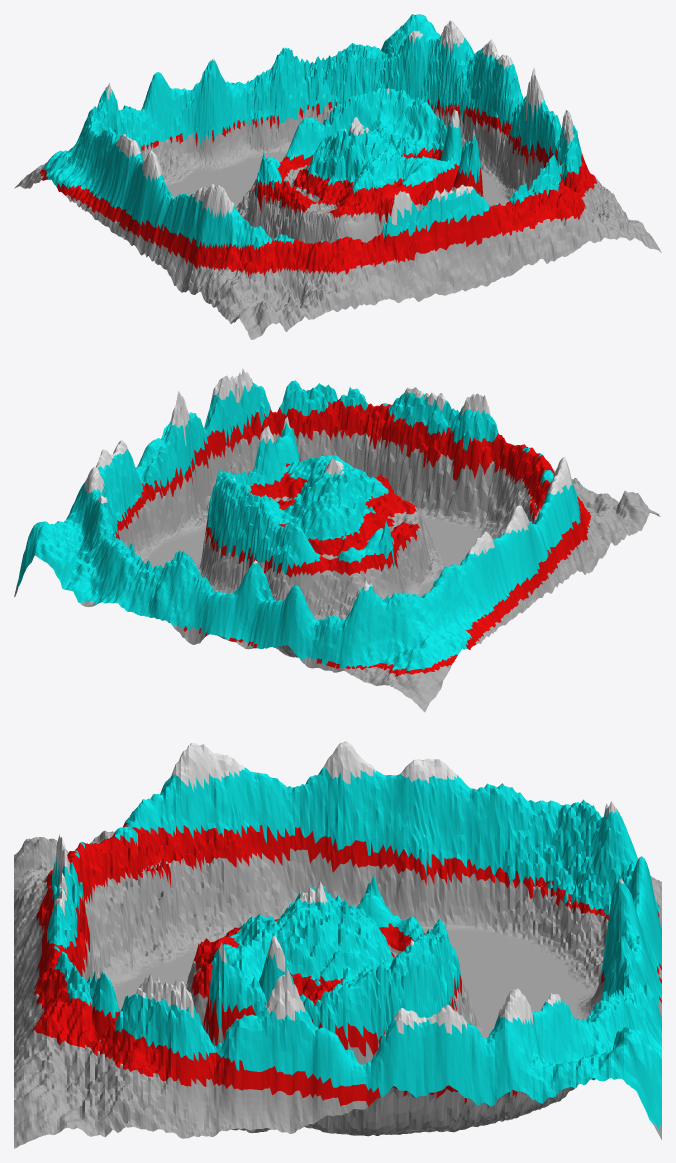
Rendered from Tut_Track_Half.fbx.
3 views of the same model, one above another, from view 1: azimuth 30°, elevation 25°; view 2: azimuth 150°, elevation 25°; view 3: azimuth 270°, elevation 25° (orthographic). The views are drawn at different scales.
Visible parts, largest first — view 1: Tutorial_Terrain_00__Half_Rez_:Mesh; view 2: Tutorial_Terrain_00__Half_Rez_:Mesh; view 3: Tutorial_Terrain_00__Half_Rez_:Mesh.
Part boxes in pixels (x1=…): Tutorial_Terrain_00__Half_Rez_:Mesh: x1=14, y1=14, x2=661, y2=339; Tutorial_Terrain_00__Half_Rez_:Mesh: x1=14, y1=368, x2=661, y2=712; Tutorial_Terrain_00__Half_Rez_:Mesh: x1=14, y1=741, x2=661, y2=1148.
Bounding box in the file's own units: 2000 × 600 × 2000.
